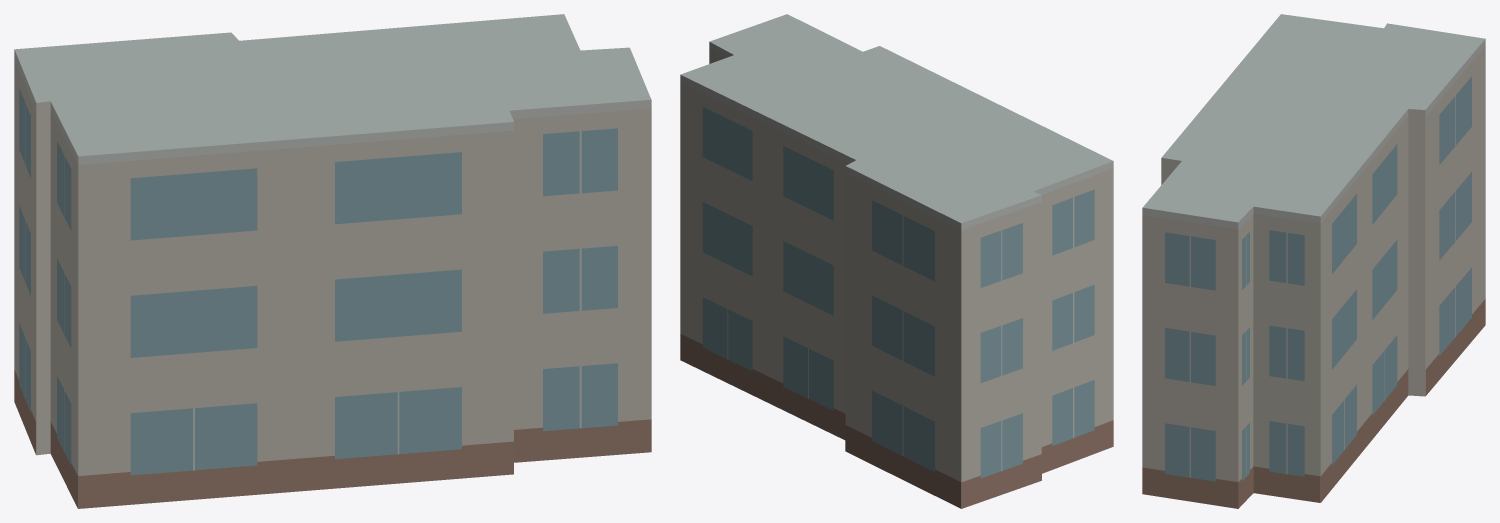
Rendered from survey-upis-32669395.glb.
3 views of the same model, side by side, from view 1: azimuth 30°, elevation 25°; view 2: azimuth 150°, elevation 25°; view 3: azimuth 270°, elevation 25° (orthographic). The views are drawn at different scales.
Visible parts, largest first — view 1: survey-upis-32669395.tmp; view 2: survey-upis-32669395.tmp; view 3: survey-upis-32669395.tmp.
Part boxes in pixels (x1,y1,x2,y2): survey-upis-32669395.tmp: (14,14,651,508); survey-upis-32669395.tmp: (680,14,1113,508); survey-upis-32669395.tmp: (1142,14,1485,508).
Size of the model in its own units: 15.61 by 10 by 10.86.
